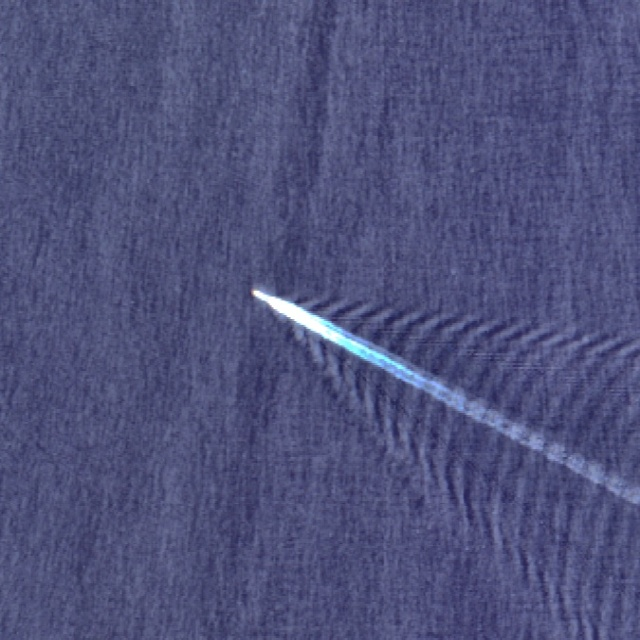wake: (204, 215, 554, 497)
